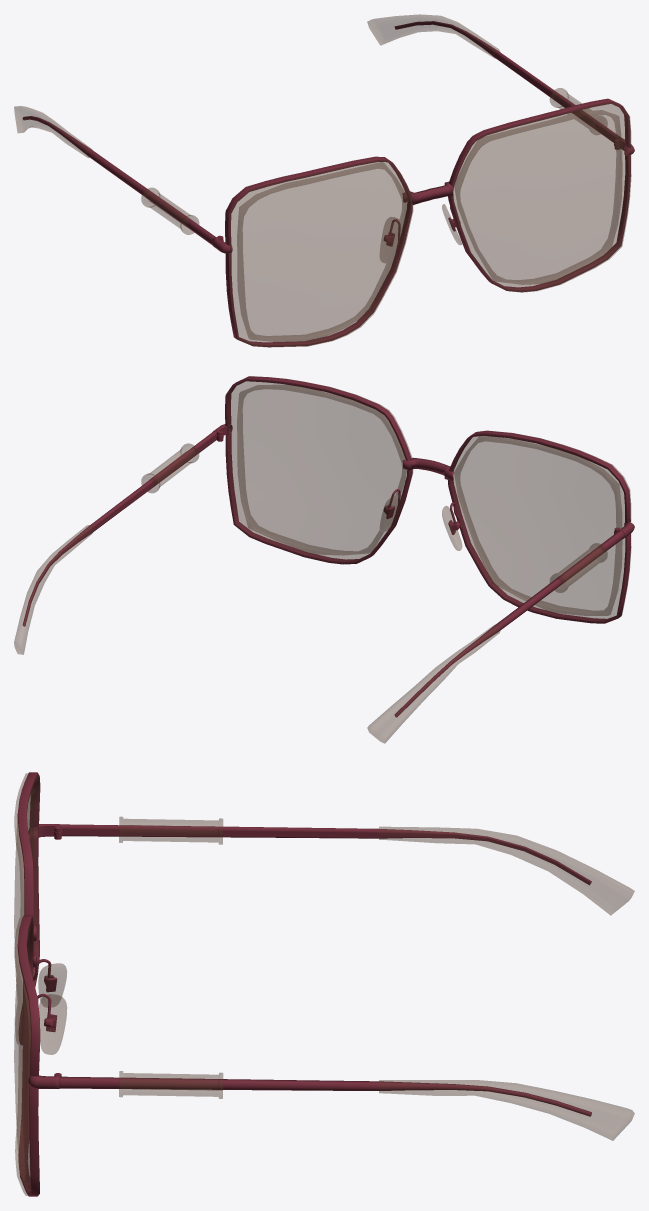
File: kare-cerceve-bordo.glb
The picture shows the model from 3 angles, top to bottom: view 1: azimuth 30°, elevation 25°; view 2: azimuth 150°, elevation 25°; view 3: azimuth 270°, elevation 25°; orthographic projection. The views are drawn at different scales.
Visible parts, largest first — view 1: OPTIK_PRODUCT_286; view 2: OPTIK_PRODUCT_286; view 3: OPTIK_PRODUCT_286.
Boxes of the visible parts, x1,y1,x2,y2 form: OPTIK_PRODUCT_286: (14,14,634,347); OPTIK_PRODUCT_286: (14,376,634,743); OPTIK_PRODUCT_286: (14,772,634,1196).
Bounding box in the file's own units: 0.1621 × 0.0627 × 0.1604.
